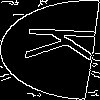K: (25, 25, 100, 63)
